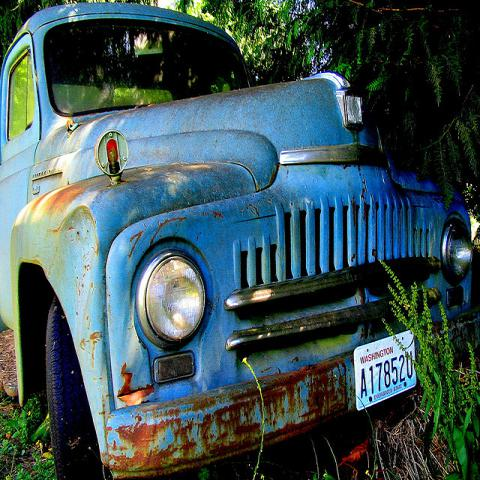truck: (0, 1, 479, 471)
